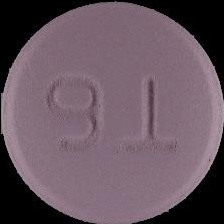0378-2410: (0, 0, 224, 224)
